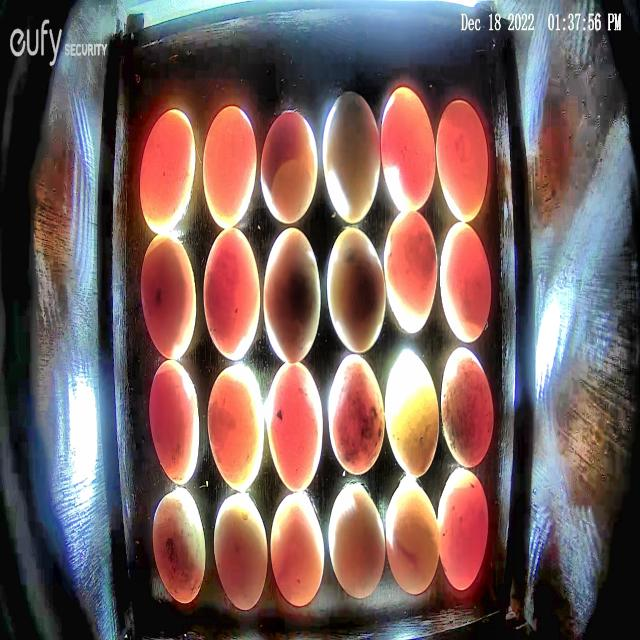DE: (262, 227, 321, 364), (322, 92, 382, 223), (203, 228, 261, 361), (138, 230, 196, 361), (206, 364, 265, 492), (266, 364, 324, 493), (326, 228, 386, 352), (139, 107, 196, 236), (328, 353, 384, 477), (381, 87, 436, 213), (384, 353, 439, 477), (383, 210, 438, 334), (440, 345, 494, 468), (202, 106, 256, 228), (213, 494, 268, 613), (329, 482, 384, 600), (148, 362, 200, 486), (440, 220, 492, 343), (436, 99, 488, 222), (262, 112, 318, 224), (385, 482, 440, 595), (151, 489, 205, 604), (270, 491, 324, 606), (438, 467, 488, 591)
